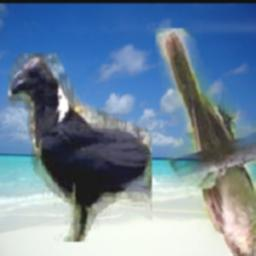Crow: (8, 53, 152, 242)
Cuckoo: (155, 28, 256, 256)
